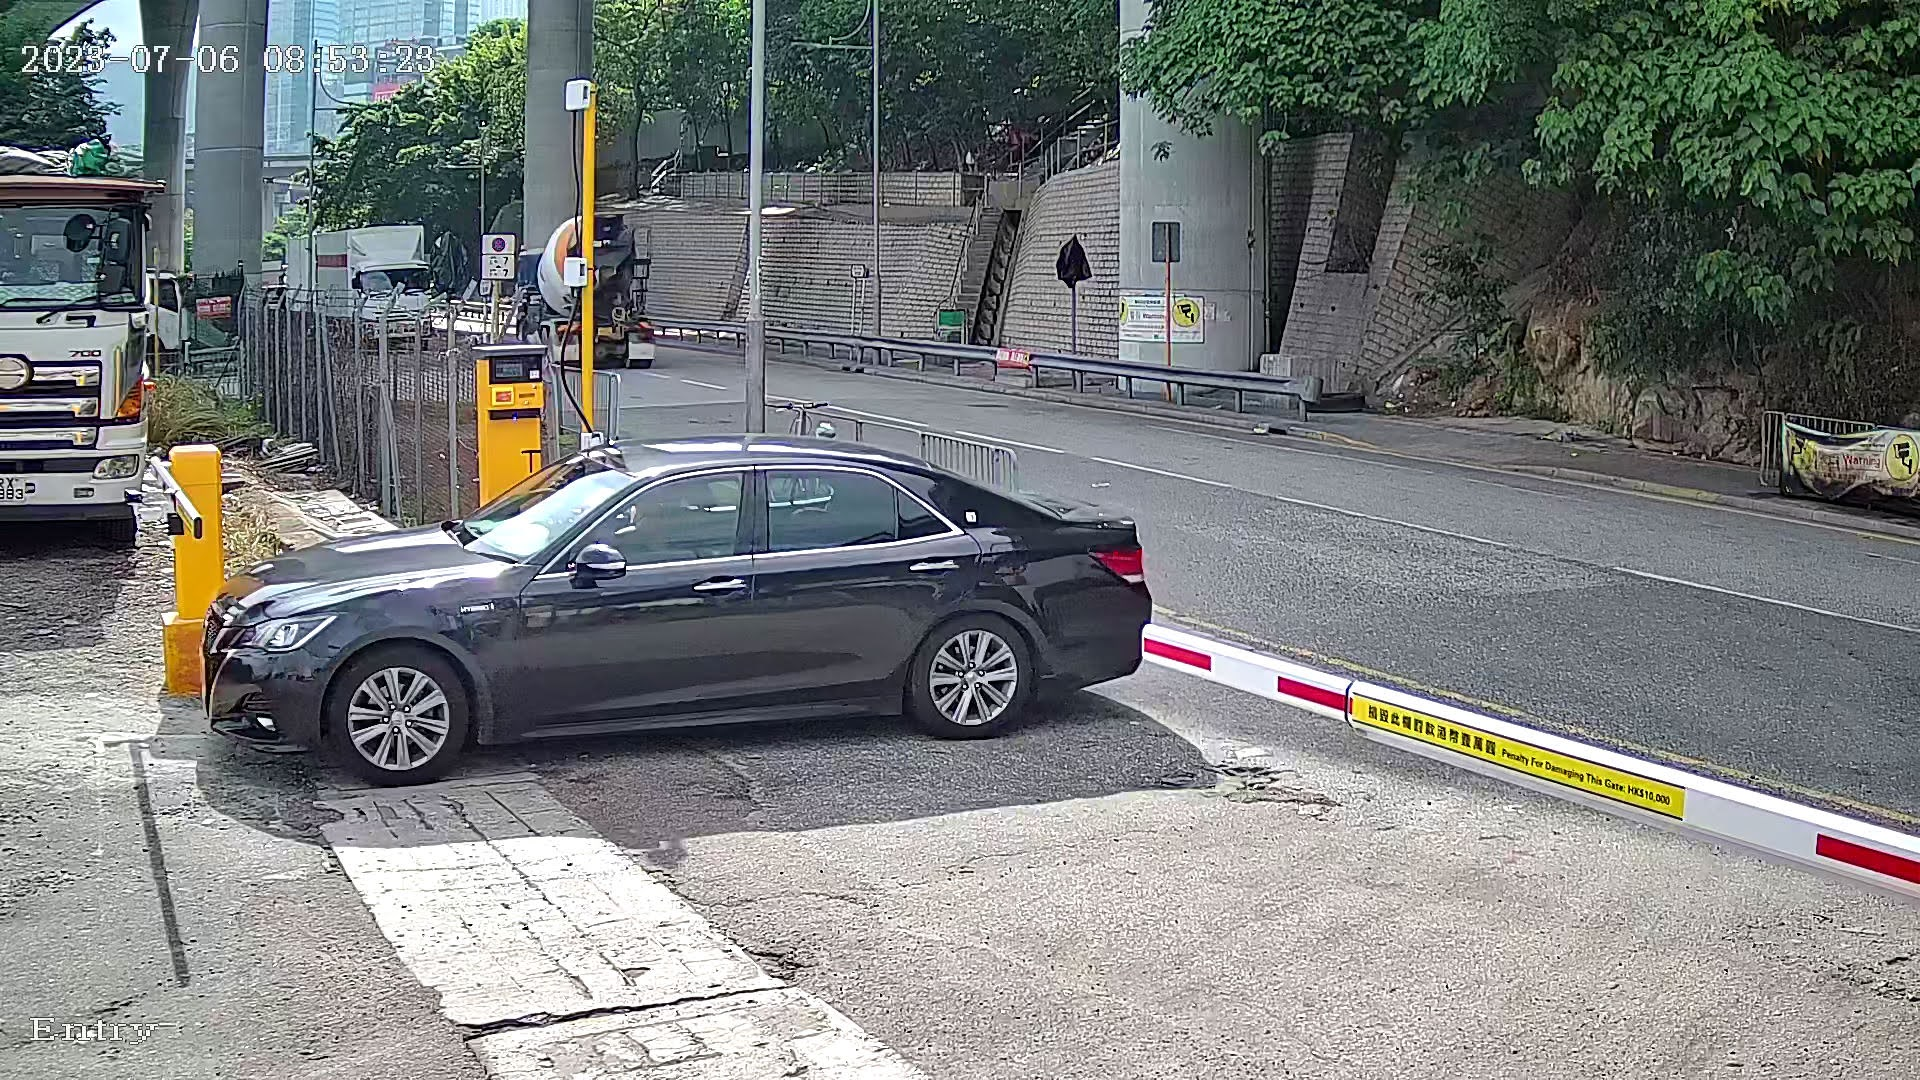privatecar: (166, 380, 1212, 845)
